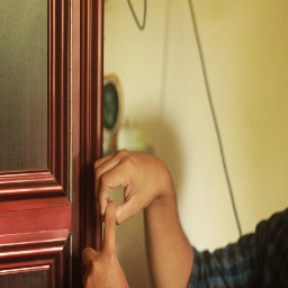Q: (71, 142, 181, 286)
